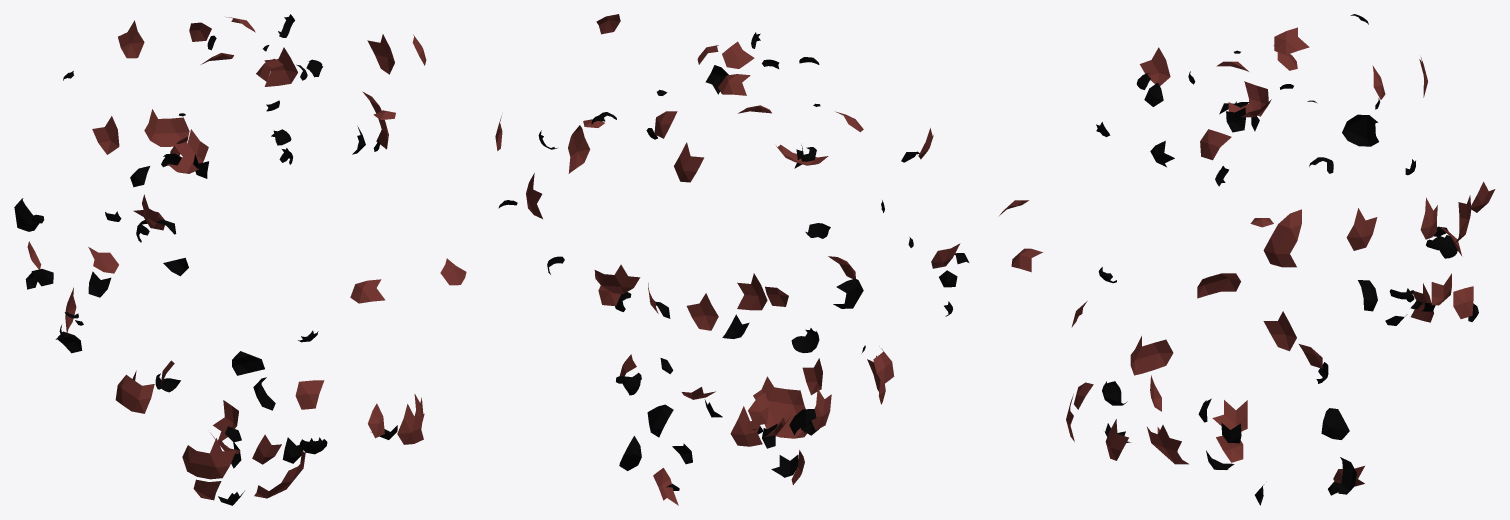
The model's file is explode.f0025.glb.
3 renders of one model, left to right at view 1: azimuth 30°, elevation 25°; view 2: azimuth 150°, elevation 25°; view 3: azimuth 270°, elevation 25°, orthographic. The views are drawn at different scales.
Parts seen in each view (by area): view 1: Body.001; view 2: Body.001; view 3: Body.001.
Part boxes in pixels (x1=…): Body.001: x1=14, y1=14, x2=466, y2=505; Body.001: x1=495, y1=14, x2=969, y2=505; Body.001: x1=999, y1=14, x2=1495, y2=505.
Bounding box in the file's own units: 10.31 × 10.68 × 10.5.
1 material, 1 textured.
